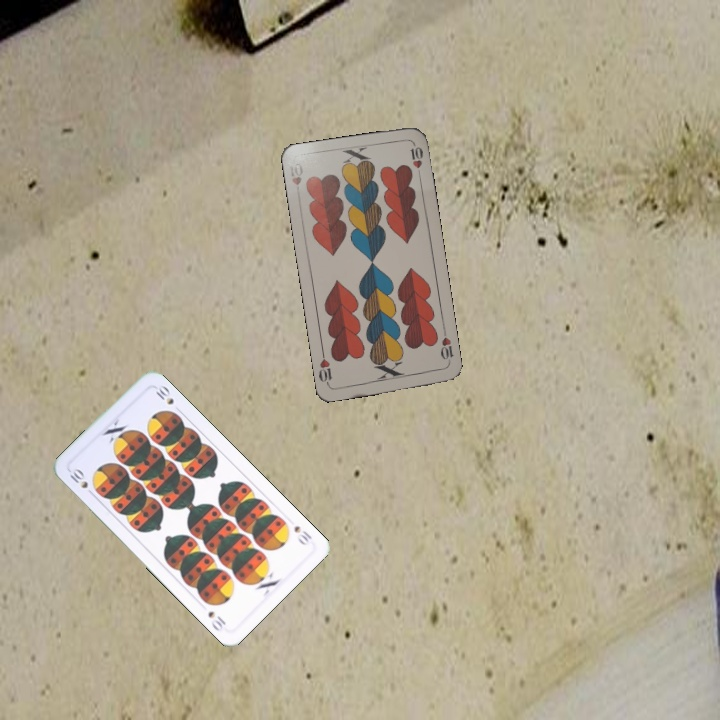H10: (285, 159, 306, 199), (436, 327, 456, 367)
S10: (65, 464, 91, 491), (290, 522, 314, 548)
